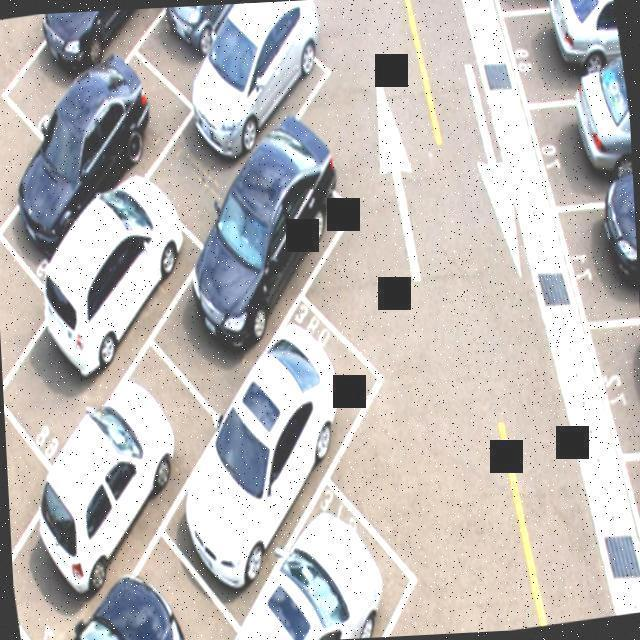space-occupied: (174, 292, 368, 565), (148, 13, 360, 246), (15, 381, 208, 576), (0, 210, 183, 402), (2, 58, 181, 235), (248, 473, 411, 640), (4, 8, 163, 108), (513, 0, 627, 106), (147, 3, 259, 94), (494, 0, 609, 17)
